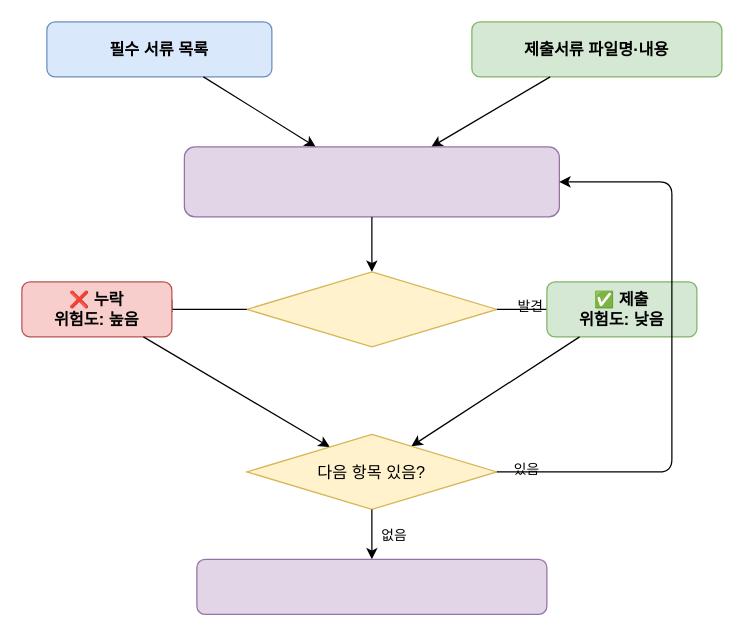
This 744x636 diagram has some shape labels left out. Each missing label, with the centre of its shape:
요건 항목 순회 필수 서류 목록에서 항목 하나씩 선택: pixel 371 181
증빙 매트릭스 생성 완료: pixel 371 586
파일에서 발견?: pixel 371 309
